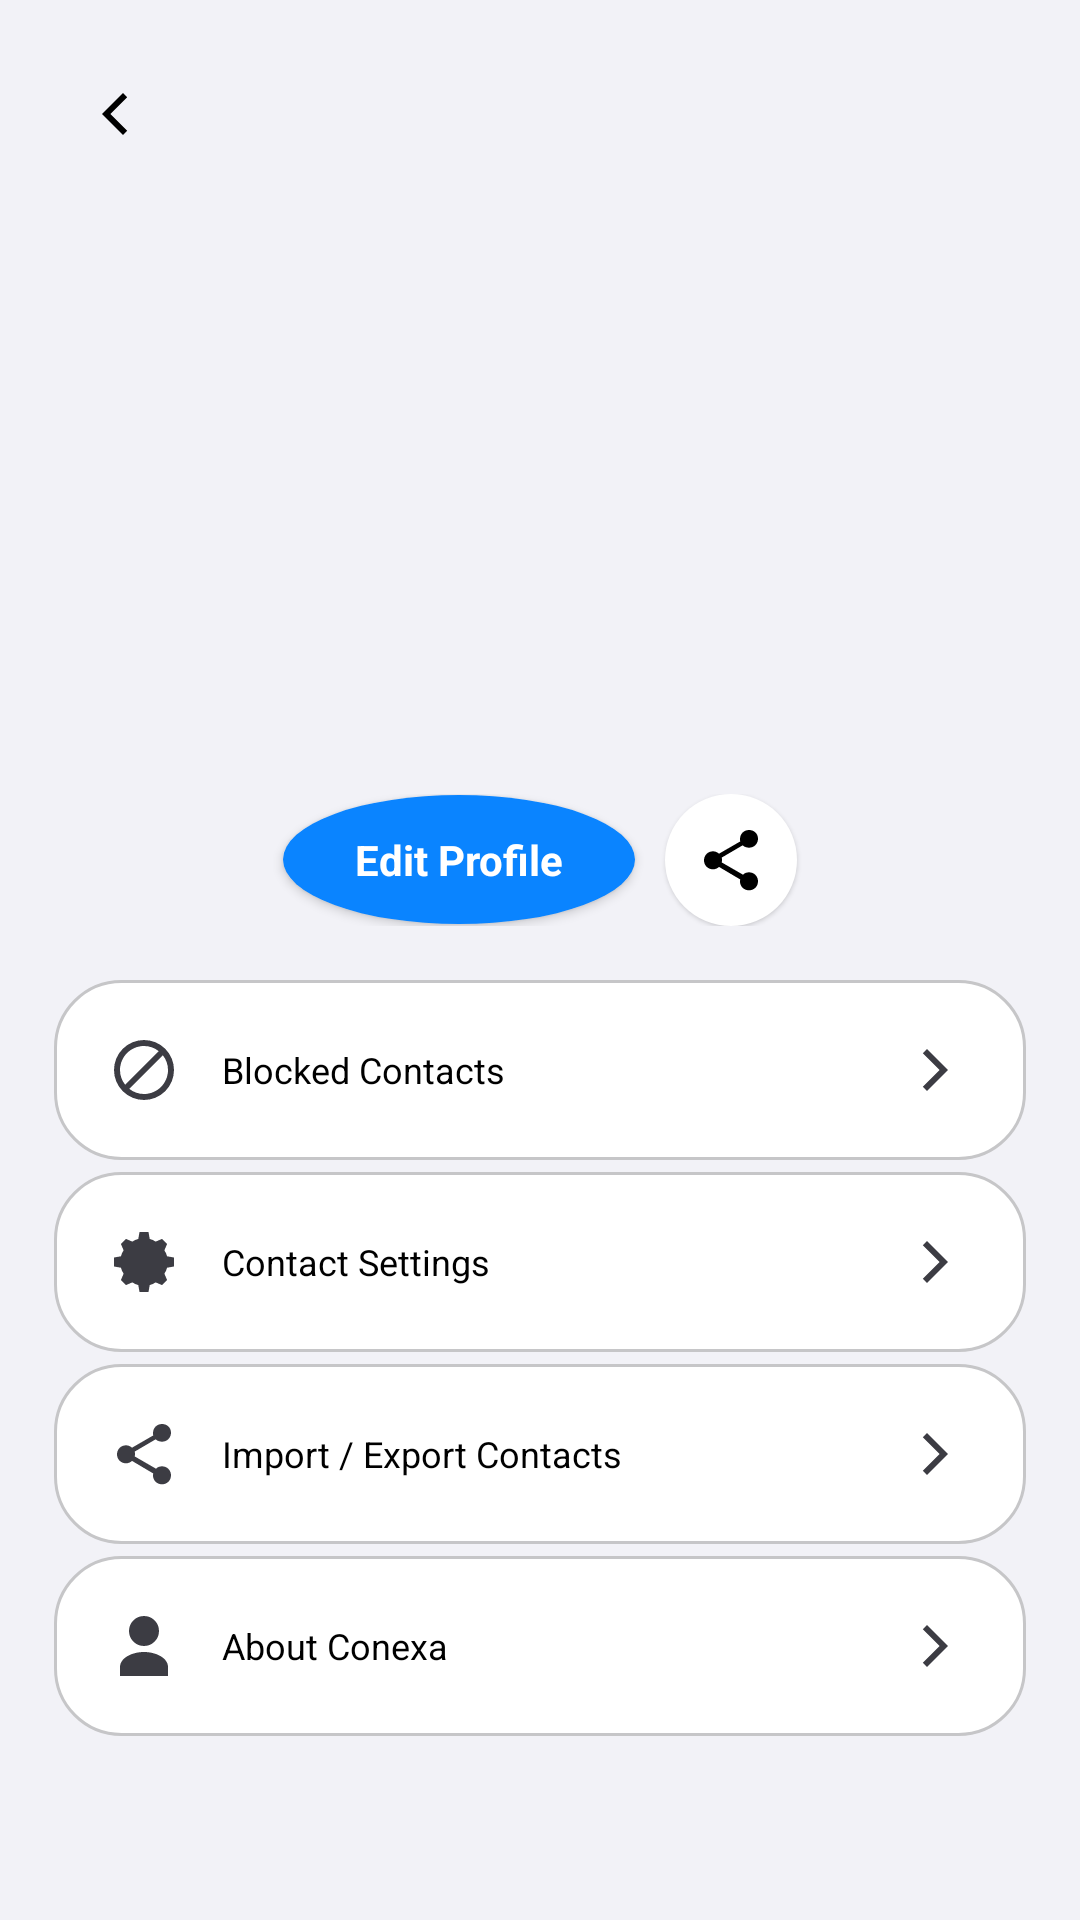

Icons on this 1080 x 1920 Android screen, each with the point to tap as (x,y):
back: (114,114)
share: (731,860)
